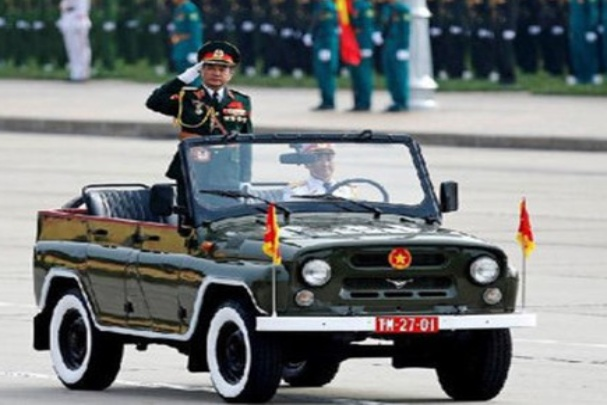plate: (374, 315, 440, 332)
